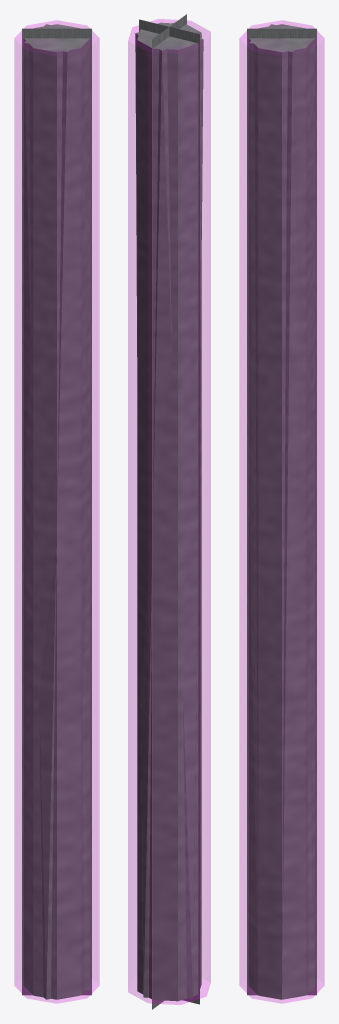
File: stake_metal.dae
The picture shows the model from 3 angles, left to right: view 1: azimuth 90°, elevation 25°; view 2: azimuth 150°, elevation 25°; view 3: azimuth 270°, elevation 25°; orthographic projection.
Visible parts, largest first — view 1: Colmesh_stake-1, stake_metal_a800, stake_metal_a200, stake_metal_a50; view 2: Colmesh_stake-1, stake_metal_a800, stake_metal_a200, stake_metal_a50; view 3: Colmesh_stake-1, stake_metal_a800, stake_metal_a200, stake_metal_a50.
Part boxes in pixels (x1,y1,x2,y2): Colmesh_stake-1: (14,20,99,1003); stake_metal_a800: (23,24,90,999); stake_metal_a200: (24,24,89,999); stake_metal_a50: (22,28,91,995); Colmesh_stake-1: (128,19,210,1004); stake_metal_a800: (137,22,201,1001); stake_metal_a200: (135,22,203,998); stake_metal_a50: (139,14,199,1009); Colmesh_stake-1: (239,20,324,1003); stake_metal_a800: (248,24,315,999); stake_metal_a200: (249,24,314,993); stake_metal_a50: (247,28,316,995).
Bounding box in the file's own units: 0.09 × 0.09 × 1.12.
Materials: 2 (1 with a texture image).
